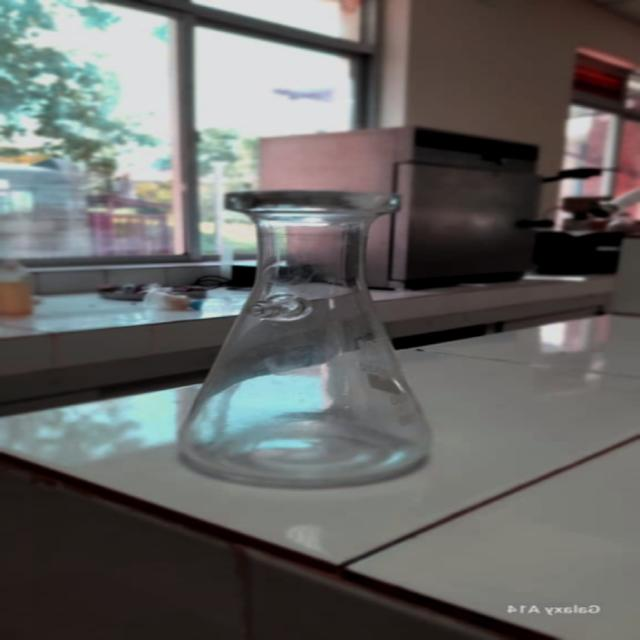Filtration Flask: (177, 178, 423, 487)
